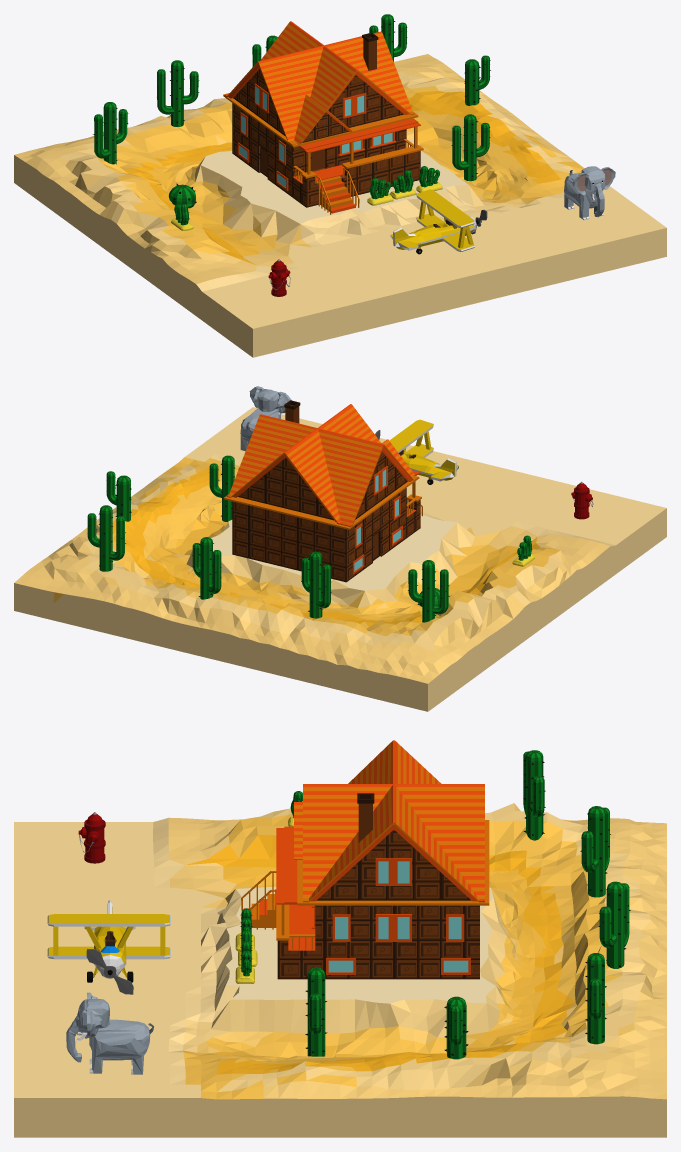
The picture shows the model from 3 angles, top to bottom: view 1: azimuth 30°, elevation 25°; view 2: azimuth 150°, elevation 25°; view 3: azimuth 270°, elevation 25°; orthographic projection. The views are drawn at different scales.
Parts seen in each view (by area): view 1: Cube.001, Cube, VEHICLES_AIRPLANE, ANIMAL_ELEFANTE, Cylinder.044, Cylinder.037, Cylinder.045, Cylinder.038, Cylinder.042, OBJRANDOM_FIRE_HYDRANT, Cylinder.039; view 2: Cube.001, Cube, VEHICLES_AIRPLANE, Cylinder.042, Cylinder.045, Cylinder.044, Cylinder.043, ANIMAL_ELEFANTE, Cylinder.037, Cylinder.038, OBJRANDOM_FIRE_HYDRANT; view 3: Cube.001, Cube, VEHICLES_AIRPLANE, ANIMAL_ELEFANTE, Cylinder.043, Cylinder.044, Cylinder.045, Cylinder.037, Cylinder.042, Cylinder.038, OBJRANDOM_FIRE_HYDRANT, Cylinder.041.
Part boxes in pixels (left/top/right/bottom): Cube.001: left=14, top=54, right=666, bottom=357; Cube: left=223, top=21, right=423, bottom=214; VEHICLES_AIRPLANE: left=390, top=189, right=487, bottom=254; ANIMAL_ELEFANTE: left=564, top=166, right=615, bottom=220; Cylinder.044: left=157, top=60, right=199, bottom=126; Cylinder.037: left=451, top=114, right=490, bottom=181; Cylinder.045: left=93, top=102, right=128, bottom=164; Cylinder.038: left=464, top=55, right=490, bottom=105; Cylinder.042: left=369, top=14, right=407, bottom=61; OBJRANDOM_FIRE_HYDRANT: left=268, top=259, right=290, bottom=296; Cylinder.039: left=367, top=178, right=393, bottom=205; Cube.001: left=14, top=407, right=666, bottom=711; Cube: left=224, top=400, right=422, bottom=582; VEHICLES_AIRPLANE: left=375, top=419, right=458, bottom=484; Cylinder.042: left=87, top=505, right=125, bottom=571; Cylinder.045: left=408, top=560, right=449, bottom=622; Cylinder.044: left=301, top=551, right=331, bottom=618; Cylinder.043: left=192, top=537, right=221, bottom=599; ANIMAL_ELEFANTE: left=240, top=386, right=291, bottom=451; Cylinder.037: left=209, top=455, right=238, bottom=521; Cylinder.038: left=106, top=471, right=131, bottom=521; OBJRANDOM_FIRE_HYDRANT: left=571, top=481, right=593, bottom=519; Cube.001: left=14, top=803, right=666, bottom=1137; Cube: left=241, top=740, right=489, bottom=979; VEHICLES_AIRPLANE: left=47, top=900, right=170, bottom=994; ANIMAL_ELEFANTE: left=66, top=992, right=153, bottom=1074; Cylinder.043: left=598, top=881, right=630, bottom=968; Cylinder.044: left=580, top=806, right=610, bottom=897; Cylinder.045: left=523, top=750, right=545, bottom=840; Cylinder.037: left=305, top=967, right=327, bottom=1056; Cylinder.042: left=585, top=953, right=606, bottom=1044; Cylinder.038: left=444, top=996, right=468, bottom=1059; OBJRANDOM_FIRE_HYDRANT: left=78, top=812, right=105, bottom=863; Cylinder.041: left=235, top=941, right=254, bottom=983.
Bounding box in the file's own units: 4002 × 1635 × 4001.
33 materials, 3 textured.
